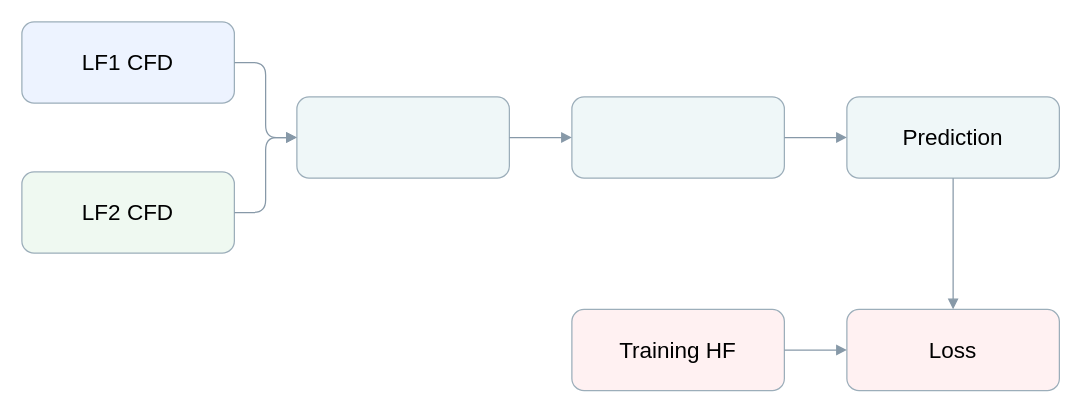
This 1081x413 diagram has some shape labels left out. The shapes that lost their labels are listed below. From the top down, each one's centre as x and y in pixels, then its label:
the point at 402,137: Align + stencils
the point at 677,137: NNLCI
